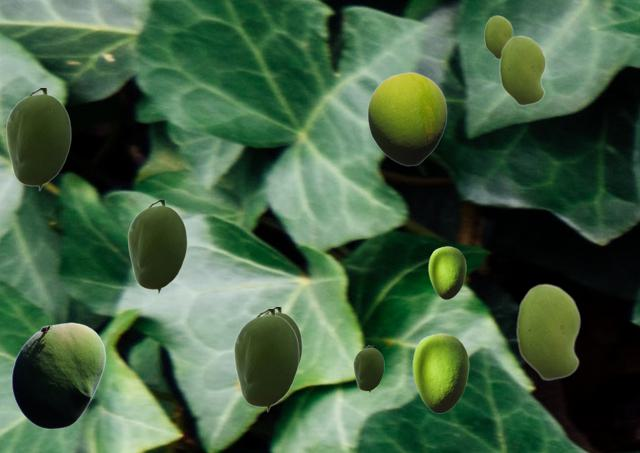green_mango: (11, 322, 105, 428), (367, 72, 446, 165), (5, 88, 70, 190), (233, 309, 298, 411), (516, 283, 580, 380), (127, 200, 186, 293), (412, 333, 468, 412), (499, 35, 545, 105), (267, 307, 301, 366), (428, 246, 465, 298), (353, 345, 383, 392), (484, 15, 512, 58)
